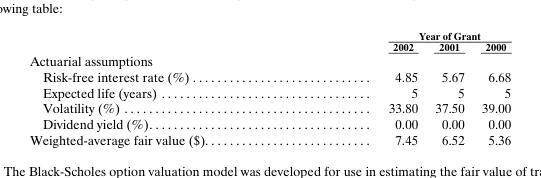table: (28, 28, 510, 147)
table column: (28, 28, 297, 147), (297, 28, 425, 147), (425, 28, 472, 147), (472, 28, 510, 147)
table column header: (28, 28, 510, 52)
table projected row header: (28, 52, 510, 68)
table row: (28, 52, 510, 68), (28, 68, 510, 84), (28, 99, 510, 115), (28, 115, 510, 131), (28, 131, 510, 147), (28, 84, 510, 99), (28, 28, 510, 40), (28, 40, 510, 52)
table spanning cell: (297, 28, 510, 40)
